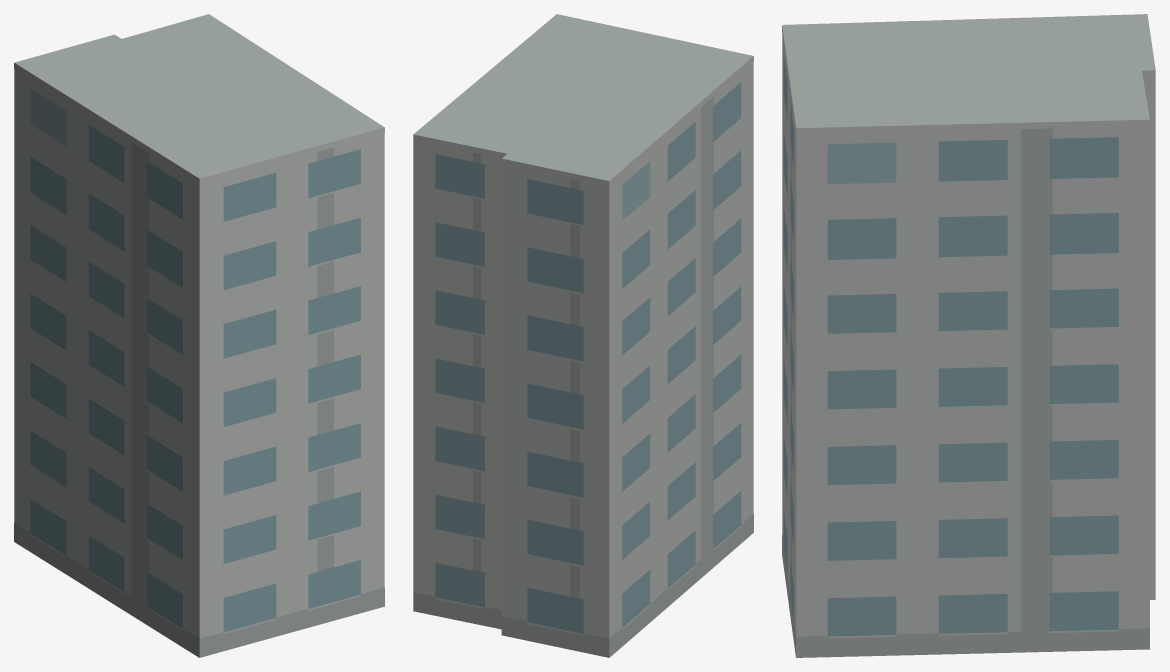
File: survey-upis-32827899.glb
3 views of the same model, side by side, from view 1: azimuth 30°, elevation 25°; view 2: azimuth 150°, elevation 25°; view 3: azimuth 270°, elevation 25° (orthographic). The views are drawn at different scales.
Visible parts, largest first — view 1: survey-upis-32827899.tmp; view 2: survey-upis-32827899.tmp; view 3: survey-upis-32827899.tmp.
Boxes of the visible parts, box(x1,y1,x2,y2) form: survey-upis-32827899.tmp: box(14, 14, 384, 657); survey-upis-32827899.tmp: box(413, 14, 753, 657); survey-upis-32827899.tmp: box(782, 14, 1155, 657).
Bounding box in the file's own units: 9.16 × 19.8 × 12.67.
